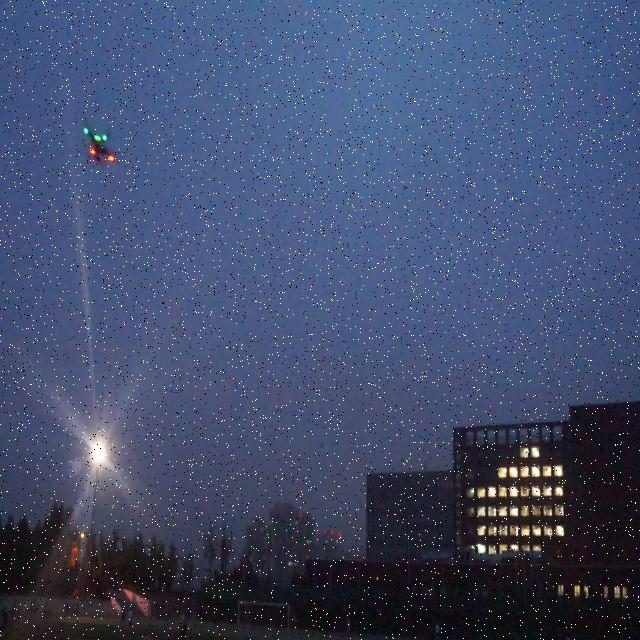UAV: (84, 128, 115, 164)
